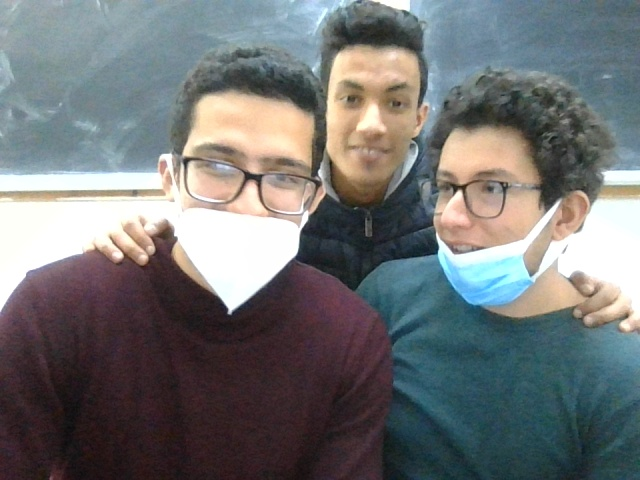mask_weared_incorrect: (164, 49, 323, 312), (431, 67, 597, 312)
without_mask: (324, 13, 421, 192)
